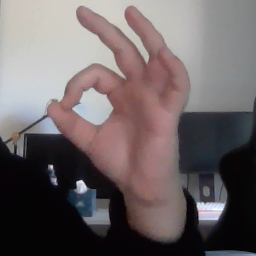O: (42, 4, 194, 196)
